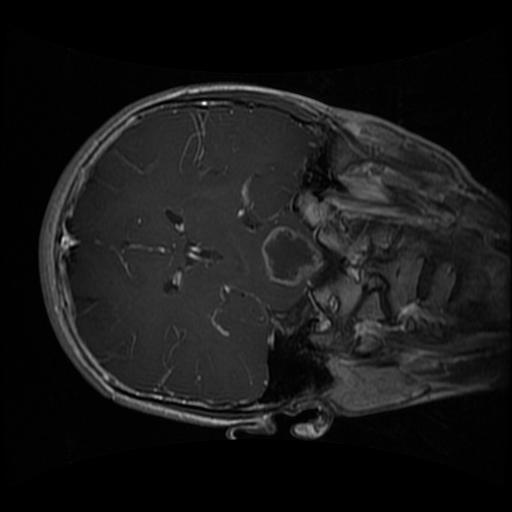glioma: (257, 222, 323, 288)
